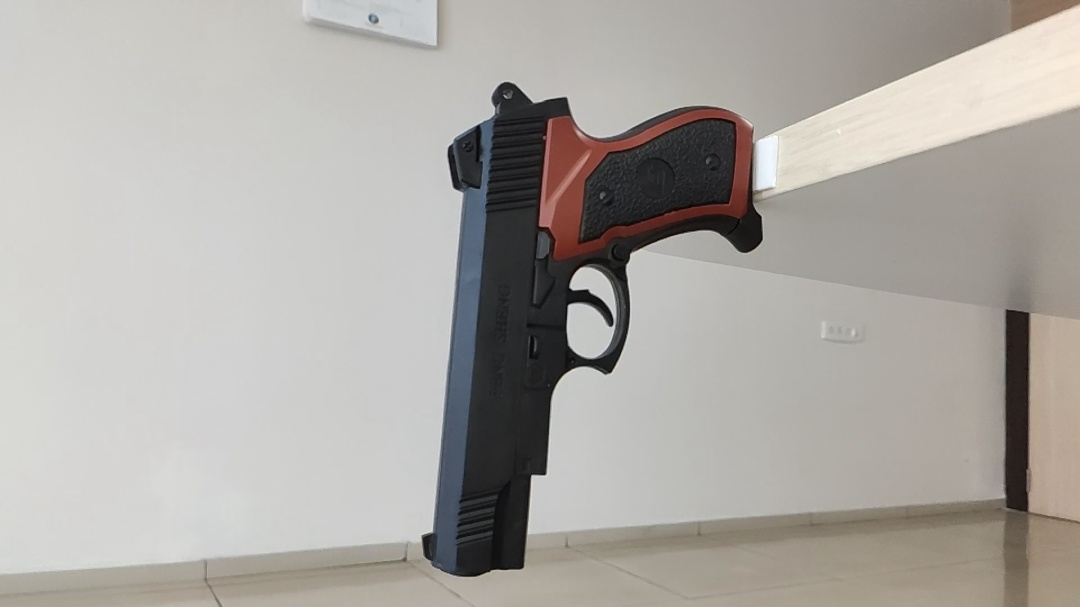gun: (283, 260, 447, 393)
